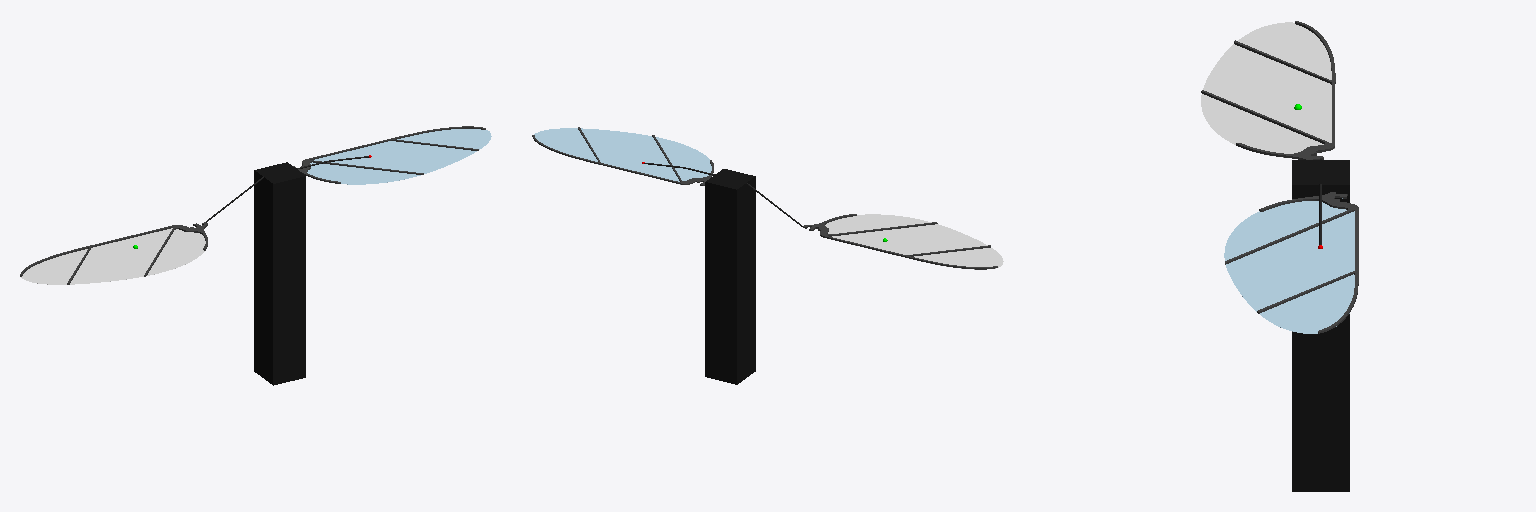
robot.urdf — fwmav_asy:
<robot name="fwmav_asy">
    <!--
        Coordinate convention:
        - z is vertical and aligned with the 13.350 mm fuselage dimension.
        - x and y span the 2.28 mm square cross-section.
        - wing hinges are placed at opposite vertices of the top square face.
    -->

    <material name="fuselage_dark">
        <color rgba="0.12 0.12 0.12 1" />
    </material>
    <material name="wing_frame_dark">
        <color rgba="0.301961 0.301961 0.301961 1" />
    </material>
    <material name="wing_membrane_blue">
        <color rgba="0.768627 0.886275 0.952941 0.0980392" />
    </material>
    <material name="wing_membrane_light">
        <color rgba="0.917647 0.917647 0.917647 0.0980392" />
    </material>
    <material name="wing_support_dark">
        <color rgba="0.18 0.18 0.18 1" />
    </material>
    <material name="com_red">
        <color rgba="1 0 0 1" />
    </material>
    <material name="marker_green">
        <color rgba="0 1 0 1" />
    </material>


    <link name="fuselage">
        <inertial>
            <mass value="1e-06" />
            <origin xyz="0 0 0" rpy="0 0 0" />
            <inertia ixx="1.51305e-11" ixy="0" ixz="0" iyy="1.51305e-11" iyz="0" izz="8.664e-13" />
        </inertial>
        <visual>
            <origin xyz="0 0 0" rpy="0 0 0" />
            <geometry>
                <box size="0.00228 0.00228 0.01335" />
            </geometry>
            <material name="fuselage_dark" />
        </visual>
        <collision>
            <origin xyz="0 0 0" rpy="0 0 0" />
            <geometry>
                <box size="0.00228 0.00228 0.01335" />
            </geometry>
        </collision>
    </link>

    <link name="right_wing_support_yaw">
        <inertial>
            <mass value="1e-09" />
            <origin xyz="0 0 0" rpy="0 0 0" />
            <inertia ixx="1e-15" ixy="0" ixz="0" iyy="1e-15" iyz="0" izz="1e-15" />
        </inertial>
    </link>
    <joint name="right_wing_support_yaw_joint" type="revolute">
        <origin xyz="-0.00114 0 0.006675" rpy="0 0 0" />
        <axis xyz="0 0 1" />
        <parent link="fuselage" />
        <child link="right_wing_support_yaw" />
        <limit lower="-1.5708" upper="1.5708" effort="1" velocity="100" />
    </joint>

    <link name="right_wing_support_pitch">
        <inertial>
            <mass value="1e-09" />
            <origin xyz="0 0 0" rpy="0 0 0" />
            <inertia ixx="1e-15" ixy="0" ixz="0" iyy="1e-15" iyz="0" izz="1e-15" />
        </inertial>
    </link>
    <joint name="right_wing_support_pitch_joint" type="revolute">
        <origin xyz="0 0 0" rpy="0 0 0" />
        <axis xyz="1 0 0" />
        <parent link="right_wing_support_yaw" />
        <child link="right_wing_support_pitch" />
        <limit lower="-1.5708" upper="1.5708" effort="1" velocity="100" />
    </joint>

    <link name="left_wing_support_base">
        <inertial>
            <mass value="1e-09" />
            <origin xyz="0 0 0" rpy="0 0 0" />
            <inertia ixx="1e-15" ixy="0" ixz="0" iyy="1e-15" iyz="0" izz="1e-15" />
        </inertial>
        <visual>
            <origin xyz="0.001075 0 0" rpy="0 1.5708 0" />
            <geometry>
                <cylinder radius="5e-05" length="0.00215" />
            </geometry>
            <material name="wing_support_dark" />
        </visual>
        <collision>
            <origin xyz="0.001075 0 0" rpy="0 1.5708 0" />
            <geometry>
                <cylinder radius="5e-05" length="0.00215" />
            </geometry>
        </collision>
    </link>
    <joint name="left_wing_support_base_joint" type="fixed">
        <origin xyz="0.00114 0 0.006675" rpy="0 0 0" />
        <parent link="fuselage" />
        <child link="left_wing_support_base" />
    </joint>

    <link name="left_wing_support_yaw">
        <inertial>
            <mass value="1e-09" />
            <origin xyz="0 0 0" rpy="0 0 0" />
            <inertia ixx="1e-15" ixy="0" ixz="0" iyy="1e-15" iyz="0" izz="1e-15" />
        </inertial>
        <visual>
            <origin xyz="0.001465 0 -0.000180045" rpy="0 1.69308 0" />
            <geometry>
                <cylinder radius="5e-05" length="0.00295204" />
            </geometry>
            <material name="wing_support_dark" />
        </visual>
        <collision>
            <origin xyz="0.001465 0 -0.000180045" rpy="0 1.69308 0" />
            <geometry>
                <cylinder radius="5e-05" length="0.00295204" />
            </geometry>
        </collision>
    </link>
    <joint name="left_wing_support_yaw_joint" type="revolute">
        <origin xyz="0.00215 0 0" rpy="0 0 0" />
        <axis xyz="0 0 1" />
        <parent link="left_wing_support_base" />
        <child link="left_wing_support_yaw" />
        <limit lower="-1.5708" upper="1.5708" effort="1" velocity="100" />
    </joint>

    <link name="left_wing_support_pitch">
        <inertial>
            <mass value="1e-09" />
            <origin xyz="0 0 0" rpy="0 0 0" />
            <inertia ixx="1e-15" ixy="0" ixz="0" iyy="1e-15" iyz="0" izz="1e-15" />
        </inertial>
    </link>
    <joint name="left_wing_support_pitch_joint" type="revolute">
        <origin xyz="0.00293 0 -0.00036009" rpy="0 0 0" />
        <axis xyz="1 0 0" />
        <parent link="left_wing_support_yaw" />
        <child link="left_wing_support_pitch" />
        <limit lower="-1.5708" upper="1.5708" effort="1" velocity="100" />
    </joint>

    <link name="left_wing_yaw">
        <inertial>
            <mass value="1e-09" />
            <origin xyz="0 0 0" rpy="0 0 0" />
            <inertia ixx="1e-15" ixy="0" ixz="0" iyy="1e-15" iyz="0" izz="1e-15" />
        </inertial>
    </link>
    <joint name="left_wing_yaw_joint" type="fixed">
        <!--
            The wing root is fixed directly to the left support pitch frame.
            The upstream support chain places this frame at the end of the
            two support segments.
        -->
        <origin xyz="0 0 0" rpy="0 0 0" />
        <parent link="left_wing_support_pitch" />
        <child link="left_wing_yaw" />
    </joint>

    <link name="left_wing_root">
        <inertial>
            <mass value="1e-09" />
            <origin xyz="0 0 0" rpy="0 0 0" />
            <inertia ixx="1e-15" ixy="0" ixz="0" iyy="1e-15" iyz="0" izz="1e-15" />
        </inertial>
    </link>
    <link name="left_wing_center_of_mass_marker">
        <visual>
            <origin xyz="0 0 0" rpy="0 0 0" />
            <geometry>
                <sphere radius="0.0001" />
            </geometry>
            <material name="com_red" />
        </visual>
    </link>
    <joint name="left_wing_pitch_joint" type="fixed">
        <origin xyz="0 0 0" rpy="0 0 0" />
        <parent link="left_wing_yaw" />
        <child link="left_wing_root" />
    </joint>
    <joint name="left_wing_center_of_mass_marker_joint" type="fixed">
        <origin xyz="0 0 0" rpy="0 0 0" />
        <parent link="left_wing_root" />
        <child link="left_wing_center_of_mass_marker" />
    </joint>

    <link name="left_wing_part_1">
        <inertial>
            <mass value="3.83835e-10" />
            <origin xyz="0 0 0" rpy="0 0 0" />
            <inertia ixx="1e-14" ixy="0" ixz="0" iyy="1e-14" iyz="0" izz="1e-14" />
        </inertial>
        <visual>
            <origin xyz="0 0 0" rpy="0 0 0" />
            <geometry>
                <mesh filename="package://wing_asy/meshes/Part_1.obj" scale="1 1 1" />
            </geometry>
            <material name="wing_frame_dark" />
        </visual>
    </link>

    <link name="left_wing_part_1_1">
        <inertial>
            <mass value="8.16534e-11" />
            <origin xyz="0 0 0" rpy="0 0 0" />
            <inertia ixx="1e-14" ixy="0" ixz="0" iyy="1e-14" iyz="0" izz="1e-14" />
        </inertial>
        <visual>
            <origin xyz="0.00679779 -0.00217114 -1.5e-06" rpy="0 0 0" />
            <geometry>
                <mesh filename="package://wing_asy/meshes/Part_1_1.obj" scale="1 1 1" />
            </geometry>
            <material name="wing_membrane_blue" />
        </visual>
    </link>

    <joint name="left_wing_fastened_1" type="fixed">
        <origin xyz="-0.00661946 0.00191632 2.03288e-20" rpy="0 0 0" />
        <parent link="left_wing_part_1" />
        <child link="left_wing_part_1_1" />
    </joint>
    <joint name="left_wing_fixed_node_to_root_joint" type="fixed">
        <origin xyz="0.00122028 -0.000993447 -3.285e-05" rpy="0 0 0" />
        <parent link="left_wing_root" />
        <child link="left_wing_part_1" />
    </joint>

    <link name="right_wing_yaw">
        <inertial>
            <mass value="1e-09" />
            <origin xyz="0 0 0" rpy="0 0 0" />
            <inertia ixx="1e-15" ixy="0" ixz="0" iyy="1e-15" iyz="0" izz="1e-15" />
        </inertial>
    </link>
    <joint name="right_wing_yaw_joint" type="fixed">
        <!--
            Fixed wing attachment to support:
            wing_attach_point_in_wing = (0.0054, 0.00089378, 0.00005638) m.
            named_right_support_tip = (-0.00400953, 0, -0.00204296) m
                in right_wing_support_pitch.
            joint_origin = named_right_support_tip - wing_attach_point_in_wing.
        -->
        <origin xyz="-0.00940953 -0.00089378 -0.00209934" rpy="0 0 0" />
        <parent link="right_wing_support_pitch" />
        <child link="right_wing_yaw" />
    </joint>

    <!--
            Fixed wing attachment:
            wing_attach_point_in_wing = (-0.0054, 0.000093, 0.000047) m.
            named_left_support_tip = (0.00400953, 0, -0.00204296) m
                in left_wing_support_pitch.
            joint_origin = named_left_support_tip - wing_attach_point_in_wing.
        -->

    <link name="right_wing_root">
        <inertial>
            <mass value="1e-09" />
            <origin xyz="0 0 0" rpy="0 0 0" />
            <inertia ixx="1e-15" ixy="0" ixz="0" iyy="1e-15" iyz="0" izz="1e-15" />
        </inertial>
    </link>
    <link name="right_wing_center_marker">
        <visual>
            <origin xyz="0 0 0" rpy="0 0 0" />
            <geometry>
                <sphere radius="0.00015" />
            </geometry>
            <material name="marker_green" />
        </visual>
    </link>
    <joint name="right_wing_pitch_joint" type="fixed">
        <origin xyz="0 0 0" rpy="0 0 0" />
        <parent link="right_wing_yaw" />
        <child link="right_wing_root" />
    </joint>
    <joint name="right_wing_center_marker_joint" type="fixed">
        <origin xyz="0 0 0" rpy="0 0 0" />
        <parent link="right_wing_root" />
        <child link="right_wing_center_marker" />
    </joint>

    <link name="right_wing_part_1">
        <inertial>
            <mass value="4.70198e-10" />
            <origin xyz="0 0 0" rpy="0 0 0" />
            <inertia ixx="1e-14" ixy="0" ixz="0" iyy="1e-14" iyz="0" izz="1e-14" />
        </inertial>
        <visual>
            <origin xyz="0 0 0" rpy="0 0 0" />
            <geometry>
                <mesh filename="package://wing_asy_right/meshes/Part_1.obj" scale="1 1 1" />
            </geometry>
            <material name="wing_frame_dark" />
        </visual>
    </link>

    <link name="right_wing_part_1_1">
        <inertial>
            <mass value="8.16534e-11" />
            <origin xyz="0 0 0" rpy="0 0 0" />
            <inertia ixx="1e-14" ixy="0" ixz="0" iyy="1e-14" iyz="0" izz="1e-14" />
        </inertial>
        <visual>
            <origin xyz="0.00998824 -0.000694768 -1.5e-06" rpy="0 0 0" />
            <geometry>
                <mesh filename="package://wing_asy_right/meshes/Part_1_1.obj" scale="1 1 1" />
            </geometry>
            <material name="wing_membrane_light" />
        </visual>
    </link>

    <joint name="right_wing_fastened_1" type="fixed">
        <origin xyz="-0.010204 -0.000187856 3.97089e-18" rpy="2.11697e-49 -1.65436e-24 -2.55926e-25" />
        <parent link="right_wing_part_1" />
        <child link="right_wing_part_1_1" />
    </joint>
    <joint name="right_wing_fixed_node_to_root_joint" type="fixed">
        <origin xyz="0.0155574 0.00108164 -4.16358e-05" rpy="3.50068e-08 -1.35618e-08 -3.4518e-09" />
        <parent link="right_wing_root" />
        <child link="right_wing_part_1" />
    </joint>

    <link name="right_wing_support">
        <inertial>
            <mass value="1e-09" />
            <origin xyz="0 0 0" rpy="0 0 0" />
            <inertia ixx="1e-15" ixy="0" ixz="0" iyy="1e-15" iyz="0" izz="1e-15" />
        </inertial>
        <visual>
            <origin xyz="0 0 0" rpy="0 0 0" />
            <geometry>
                <cylinder radius="5e-05" length="0.0045" />
            </geometry>
            <material name="wing_support_dark" />
        </visual>
        <collision>
            <origin xyz="0 0 0" rpy="0 0 0" />
            <geometry>
                <cylinder radius="5e-05" length="0.0045" />
            </geometry>
        </collision>
    </link>
    <joint name="right_wing_support_joint" type="fixed">
        <origin xyz="-0.00200476 0 -0.00102148" rpy="0 -2.04204 0" />
        <parent link="right_wing_support_pitch" />
        <child link="right_wing_support" />
    </joint>
</robot>

--- Render facts (derived) ---
Views: 3 orthographic renders of the robot side by side, from view 1: azimuth 30°, elevation 25°; view 2: azimuth 150°, elevation 25°; view 3: azimuth 270°, elevation 25°.
Robot: fwmav_asy — 17 links, 16 joints (4 revolute, 12 fixed); root link fuselage; default pose: every joint at zero.
Links seen in each view (by area): view 1: fuselage, right_wing_part_1_1, left_wing_part_1_1, left_wing_part_1, right_wing_part_1; view 2: fuselage, left_wing_part_1_1, right_wing_part_1_1, right_wing_part_1, left_wing_part_1; view 3: left_wing_part_1_1, right_wing_part_1_1, fuselage, right_wing_part_1, left_wing_part_1.
Link boxes in pixels (x1=…): fuselage: x1=254, y1=162, x2=305, y2=385; right_wing_part_1_1: x1=21, y1=228, x2=205, y2=284; left_wing_part_1_1: x1=307, y1=129, x2=491, y2=184; left_wing_part_1: x1=293, y1=126, x2=485, y2=183; right_wing_part_1: x1=20, y1=222, x2=207, y2=284; fuselage: x1=705, y1=169, x2=755, y2=384; left_wing_part_1_1: x1=534, y1=128, x2=711, y2=184; right_wing_part_1_1: x1=825, y1=214, x2=1003, y2=269; right_wing_part_1: x1=803, y1=214, x2=997, y2=269; left_wing_part_1: x1=532, y1=127, x2=713, y2=185; left_wing_part_1_1: x1=1224, y1=198, x2=1354, y2=333; right_wing_part_1_1: x1=1201, y1=22, x2=1334, y2=157; fuselage: x1=1292, y1=160, x2=1349, y2=491; right_wing_part_1: x1=1201, y1=21, x2=1335, y2=159; left_wing_part_1: x1=1225, y1=192, x2=1358, y2=333.
Bounding box of the posed robot: 0.0329 × 0.0062 × 0.0134 m (x, y, z).
4 mesh visuals loaded from 4 distinct referenced files (4 OBJ).
